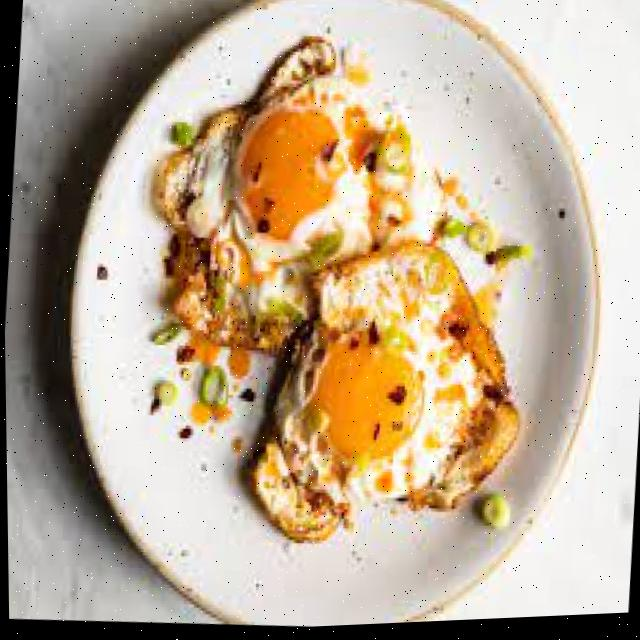Egg: (272, 246, 515, 512), (231, 79, 410, 275)
